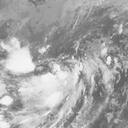cyclone: (14, 54, 87, 107)
